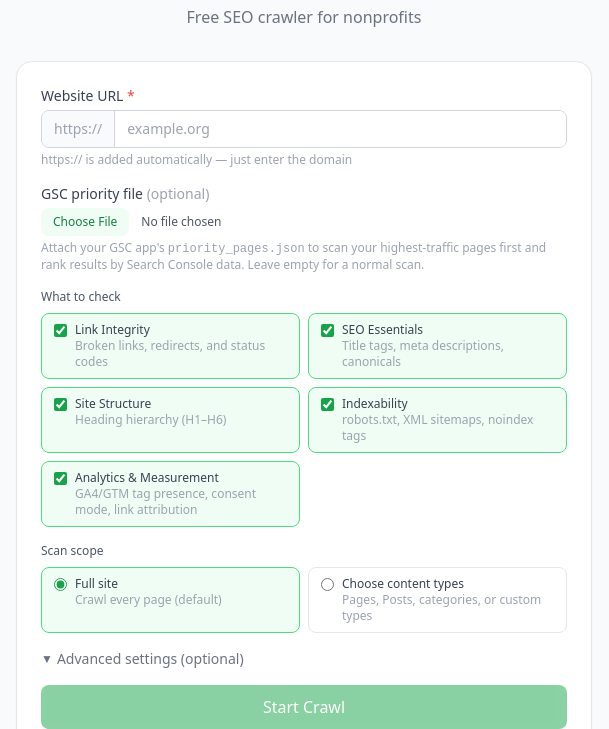
Scenario: Home — scan scope (partial scan) › discovering a WP site renders content-type checkboxes with counts
The image size is (609, 729).
Type "example.com" into the field with placeholder "example.org" at (341, 129), box [115, 111, 566, 147]
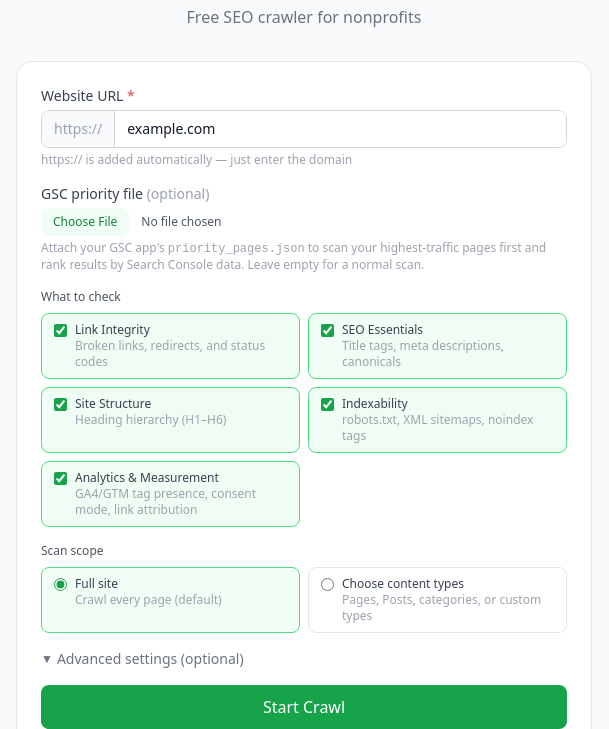
Click the radio button labelled "Choose content types" at (328, 584), box [321, 578, 334, 591]
(page scrolled)
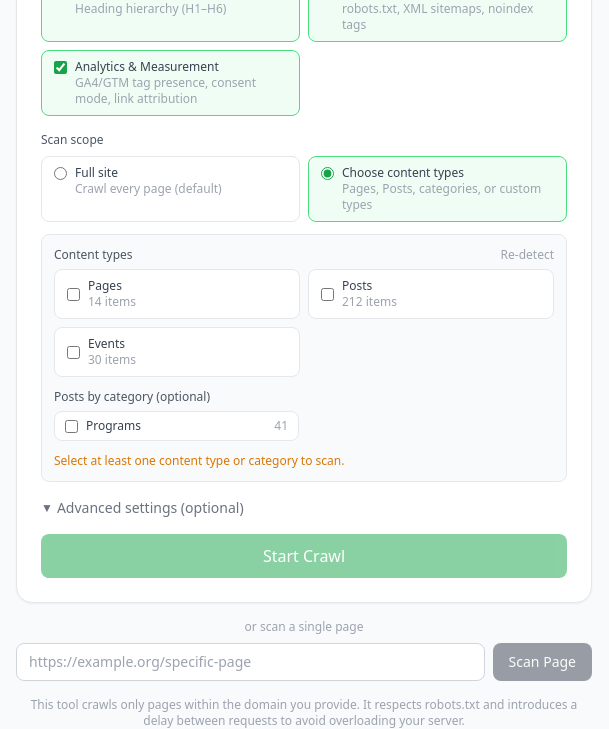
Expected: the text "Pages" is shown, [88, 277, 122, 294]
Expected: the text "Posts" is shown, [342, 277, 372, 294]
Expected: the text "Events" is shown, [88, 335, 125, 352]
